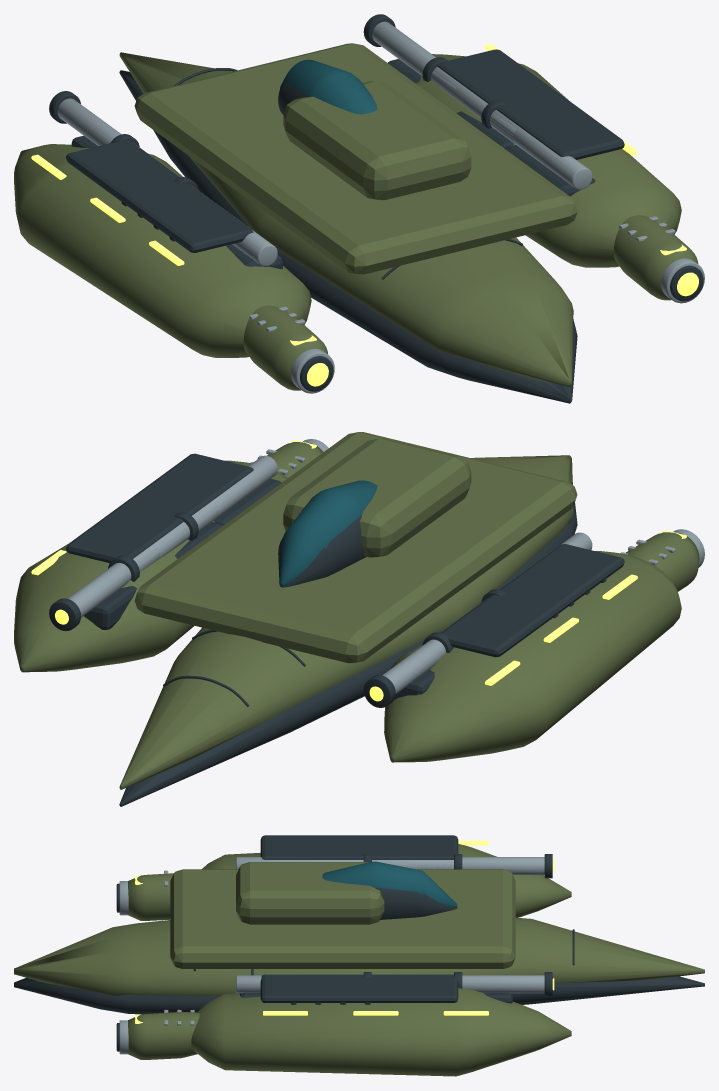
File: boss-3.glb
3 views of the same model, one above another, from view 1: azimuth 30°, elevation 25°; view 2: azimuth 150°, elevation 25°; view 3: azimuth 270°, elevation 25° (orthographic). The views are drawn at different scales.
Visible parts, largest first — view 1: SM_Hull, SM_Shield_Left, SM_Shield_Right, SM_Bay_Left, SM_Bay_Right, SM_Weapon_Right, SM_Engine_Left, SM_Engine_Right, SM_Weapon_Left; view 2: SM_Hull, SM_Shield_Left, SM_Shield_Right, SM_Bay_Left, SM_Bay_Right, SM_Weapon_Right, SM_Weapon_Left, SM_Engine_Left, SM_Engine_Right; view 3: SM_Hull, SM_Shield_Right, SM_Bay_Right, SM_Bay_Left, SM_Engine_Right, SM_Weapon_Left, SM_Shield_Left, SM_Weapon_Right, SM_Engine_Left.
Boxes of the visible parts, <box> form: SM_Hull: <box>119,43,577,403</box>; SM_Shield_Left: <box>14,144,311,357</box>; SM_Shield_Right: <box>416,44,681,267</box>; SM_Bay_Left: <box>66,140,253,252</box>; SM_Bay_Right: <box>437,49,624,159</box>; SM_Weapon_Right: <box>363,14,595,196</box>; SM_Engine_Left: <box>243,305,334,393</box>; SM_Engine_Right: <box>613,215,704,303</box>; SM_Weapon_Left: <box>49,91,282,269</box>; SM_Hull: <box>119,432,577,806</box>; SM_Shield_Left: <box>384,551,681,762</box>; SM_Shield_Right: <box>14,460,287,672</box>; SM_Bay_Left: <box>441,544,624,657</box>; SM_Bay_Right: <box>66,453,253,563</box>; SM_Weapon_Right: <box>49,455,281,631</box>; SM_Weapon_Left: <box>363,532,592,707</box>; SM_Engine_Left: <box>620,529,704,591</box>; SM_Engine_Right: <box>250,439,328,477</box>; SM_Hull: <box>14,861,704,1014</box>; SM_Shield_Right: <box>191,988,571,1076</box>; SM_Bay_Right: <box>260,974,458,1002</box>; SM_Bay_Left: <box>260,835,458,859</box>; SM_Engine_Right: <box>116,1009,199,1059</box>; SM_Weapon_Left: <box>236,854,554,878</box>; SM_Shield_Left: <box>202,840,571,917</box>; SM_Weapon_Right: <box>236,972,554,1003</box>; SM_Engine_Left: <box>116,870,173,920</box>.
Size of the model in its own units: 5.72 by 1.83 by 8.4.
